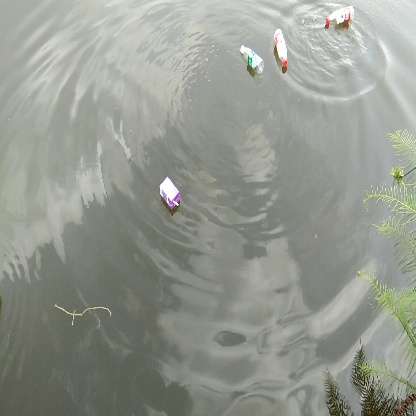bottle: (269, 27, 294, 70), (323, 3, 358, 33), (238, 44, 267, 77)
milk-box: (157, 175, 185, 213)
